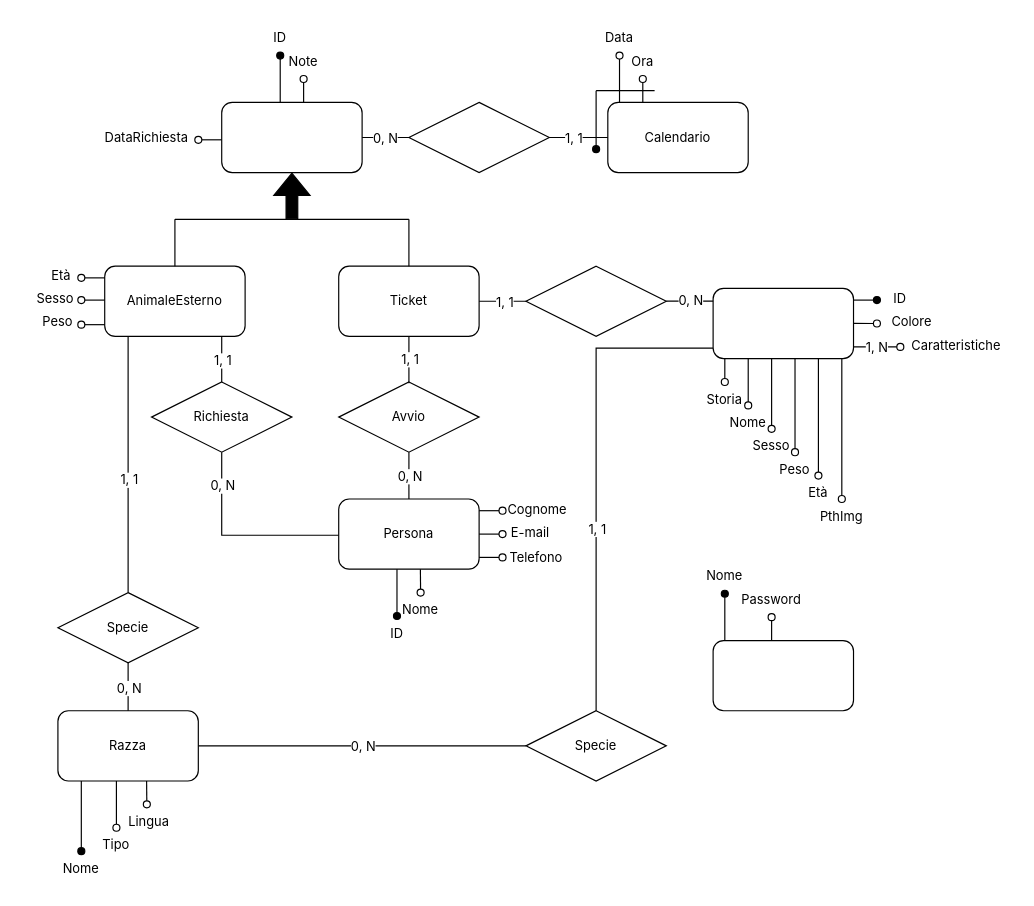
Image size: 1034x906. Some labels were removed from this diagram. The shapes that lost their labels are listed below. From the top down, each one's centre as x and y in pixels, then its label:
the point at 291,137: EntitàDatabile
the point at 478,137: Appuntamento
the point at 595,300: Interessa
the point at 783,323: AnimaleRifugio
the point at 783,675: Utente
